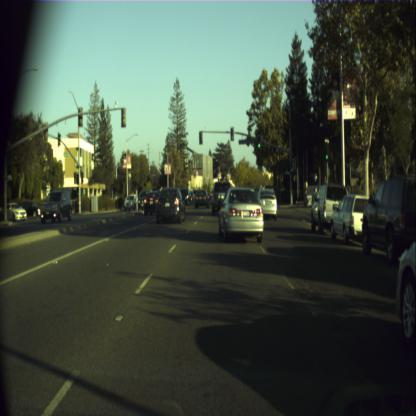Green: (324, 144, 328, 160), (230, 126, 234, 141), (257, 134, 261, 148), (290, 160, 293, 172)
off: (198, 130, 202, 144)
